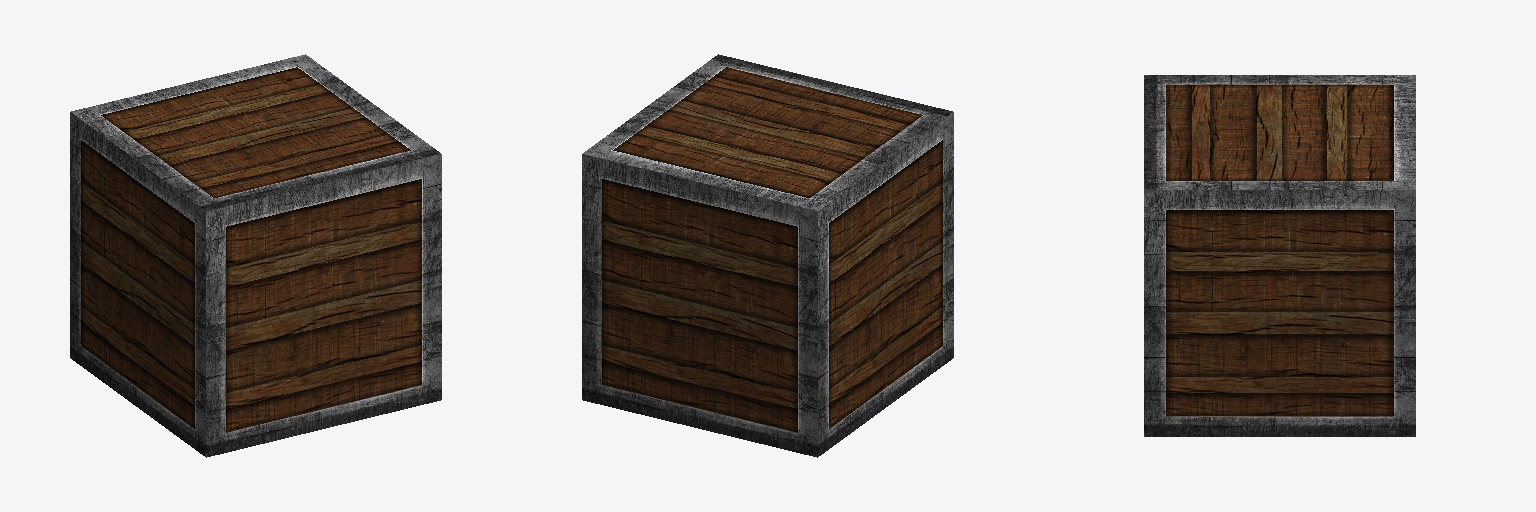
3 views of the same model, side by side, from view 1: azimuth 30°, elevation 25°; view 2: azimuth 150°, elevation 25°; view 3: azimuth 270°, elevation 25° (orthographic).
Parts seen in each view (by area): view 1: Cube.001; view 2: Cube.001; view 3: Cube.001.
Part boxes in pixels (x1,y1,x2,y2): Cube.001: (70,54,441,457); Cube.001: (582,54,953,457); Cube.001: (1144,75,1415,436).
Bounding box in the file's own units: 2 × 2 × 2.
1 materials, 1 textured.